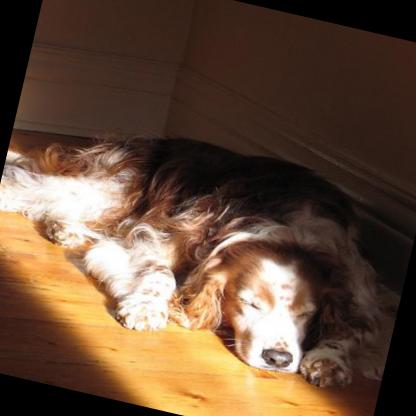Welsh_springer_spaniel: (0, 96, 416, 400)
